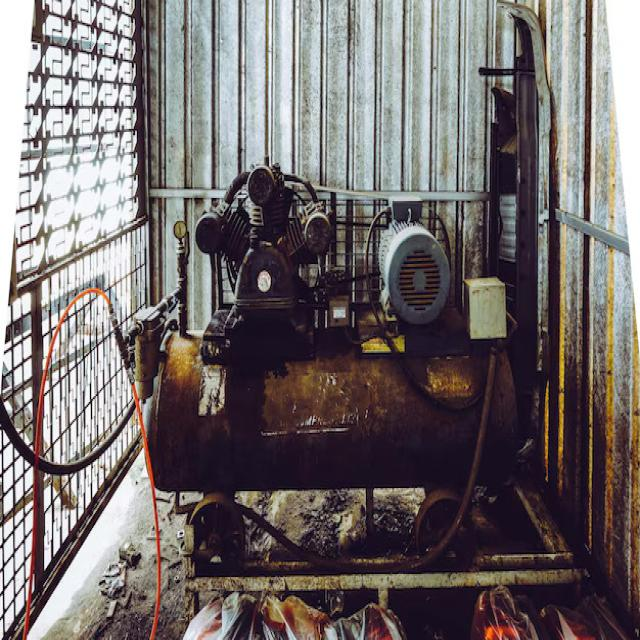compressor: (120, 155, 522, 572)
